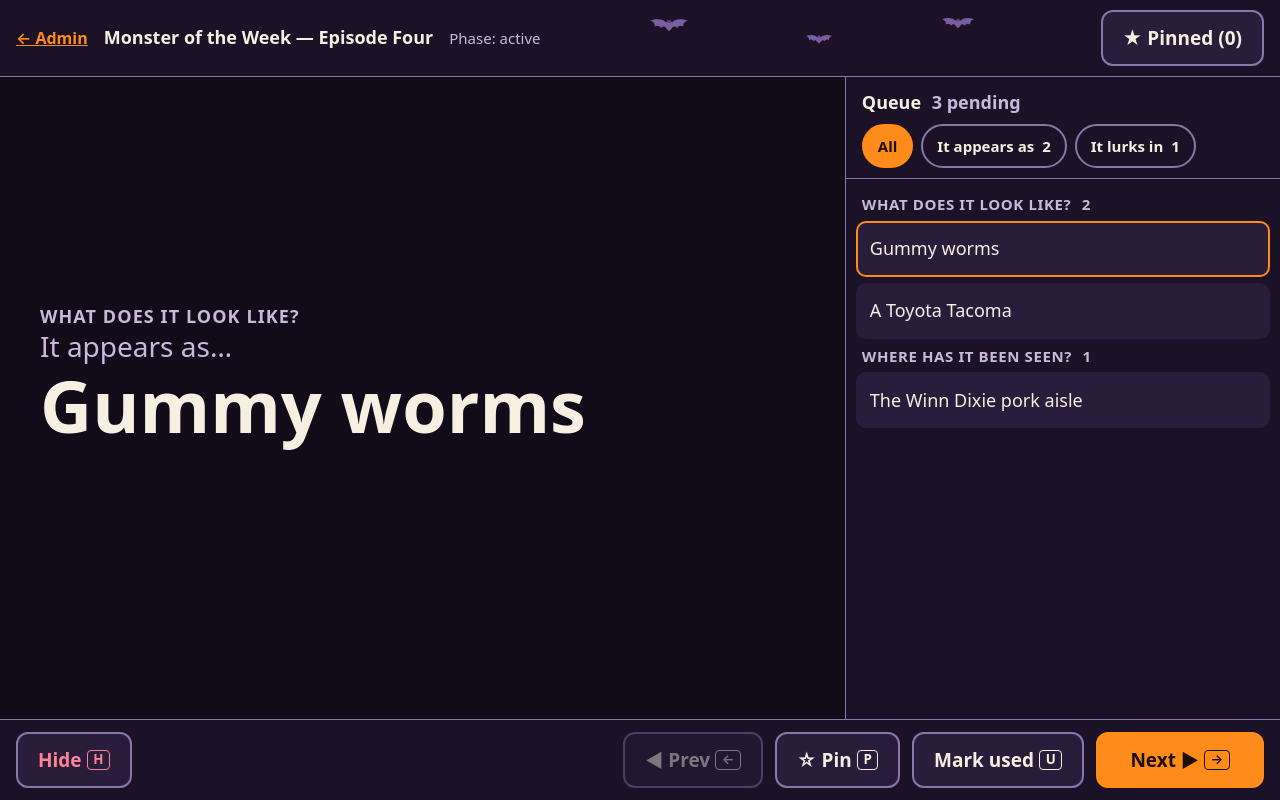
WriteInSpotlightPage › collects pinned write-ins in the tray
Type keys "p"
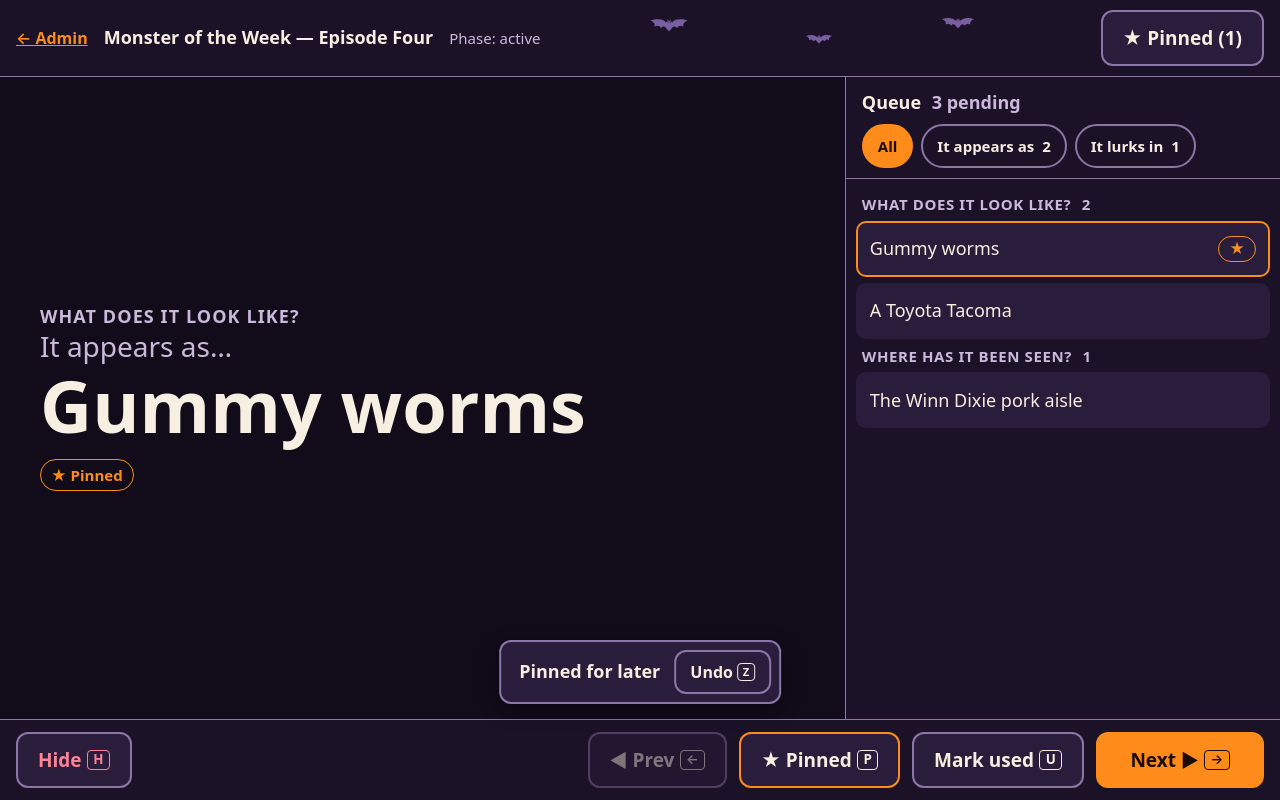
Click the button "★ Pinned (1)". click: [1182, 38]
box: 1100,10 -> 1264,66
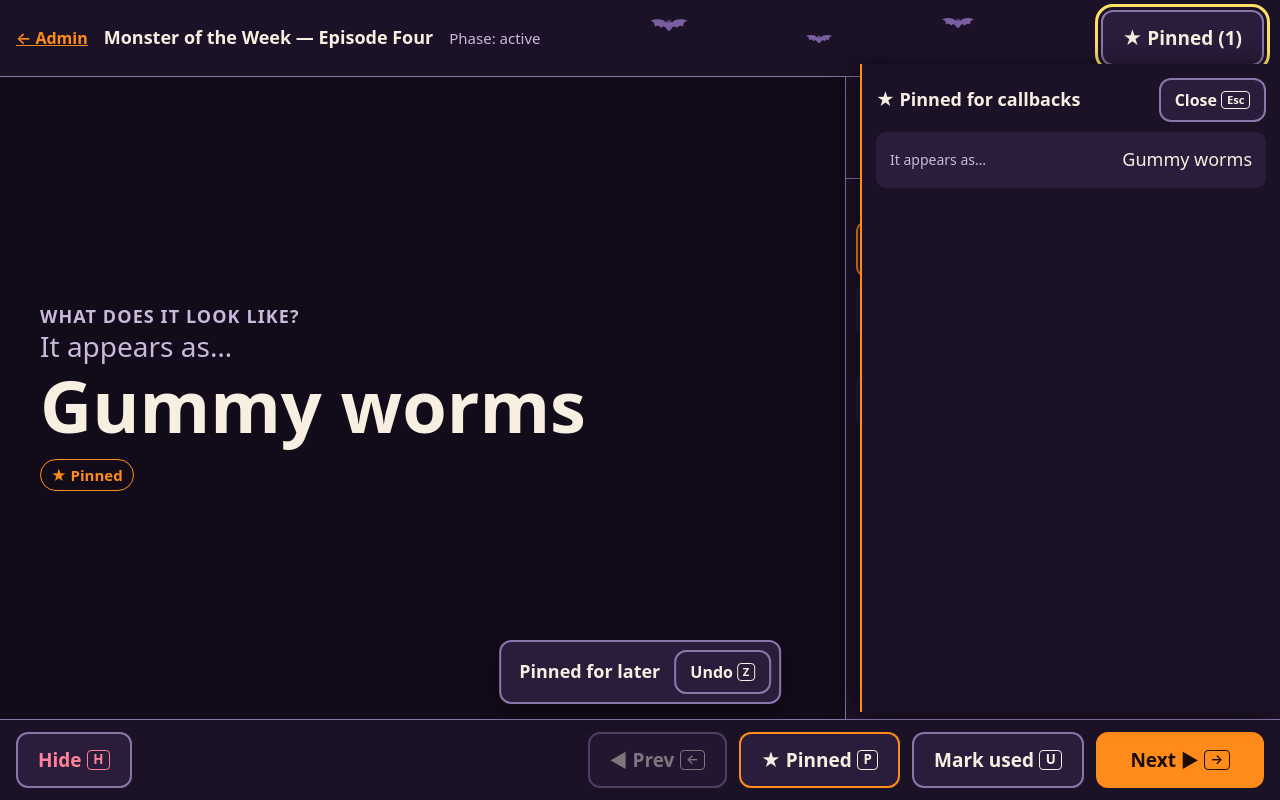
Result: the text "Gummy worms" below "★ Pinned for callbacks" is shown at 1122,147 -> 1252,171
